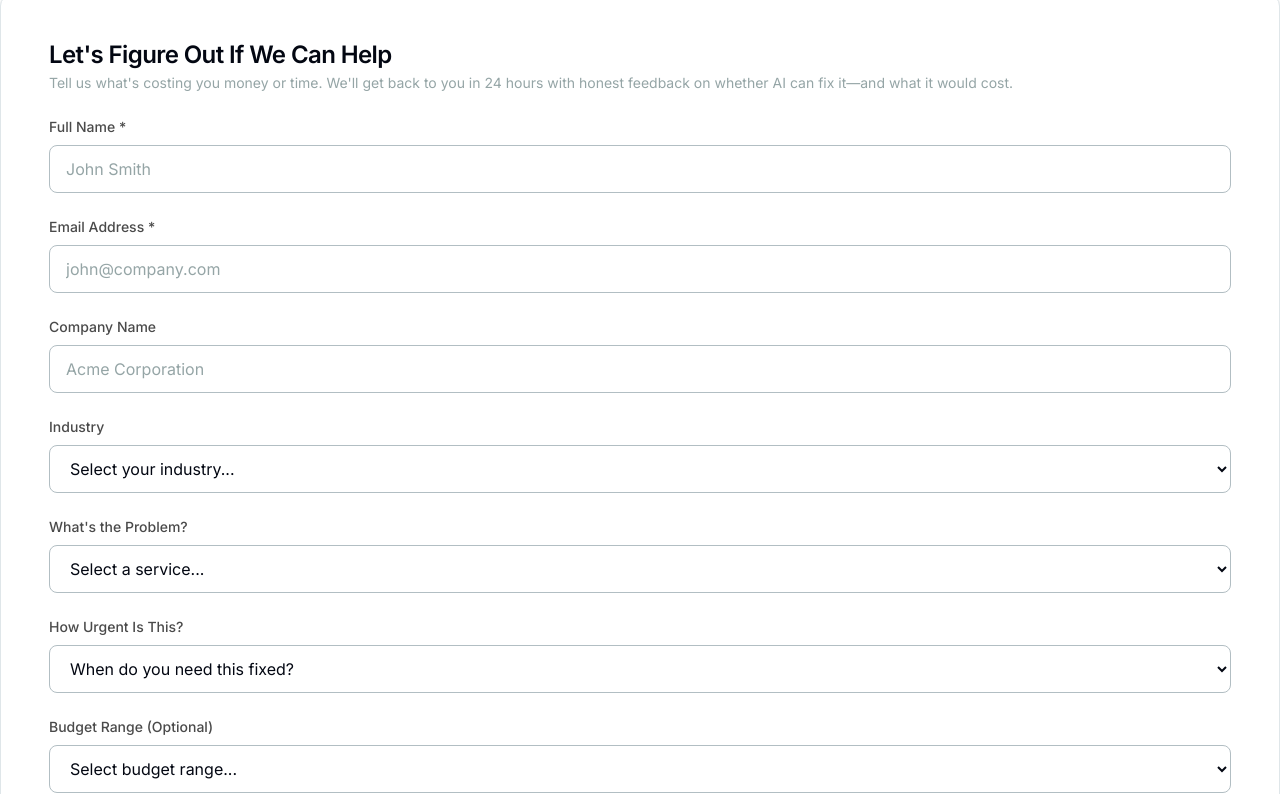
ContactForm › validates name minimum length
Type "A" into the field labelled "Full Name *" at (640, 169), box [49, 145, 1231, 193]
(page scrolled)
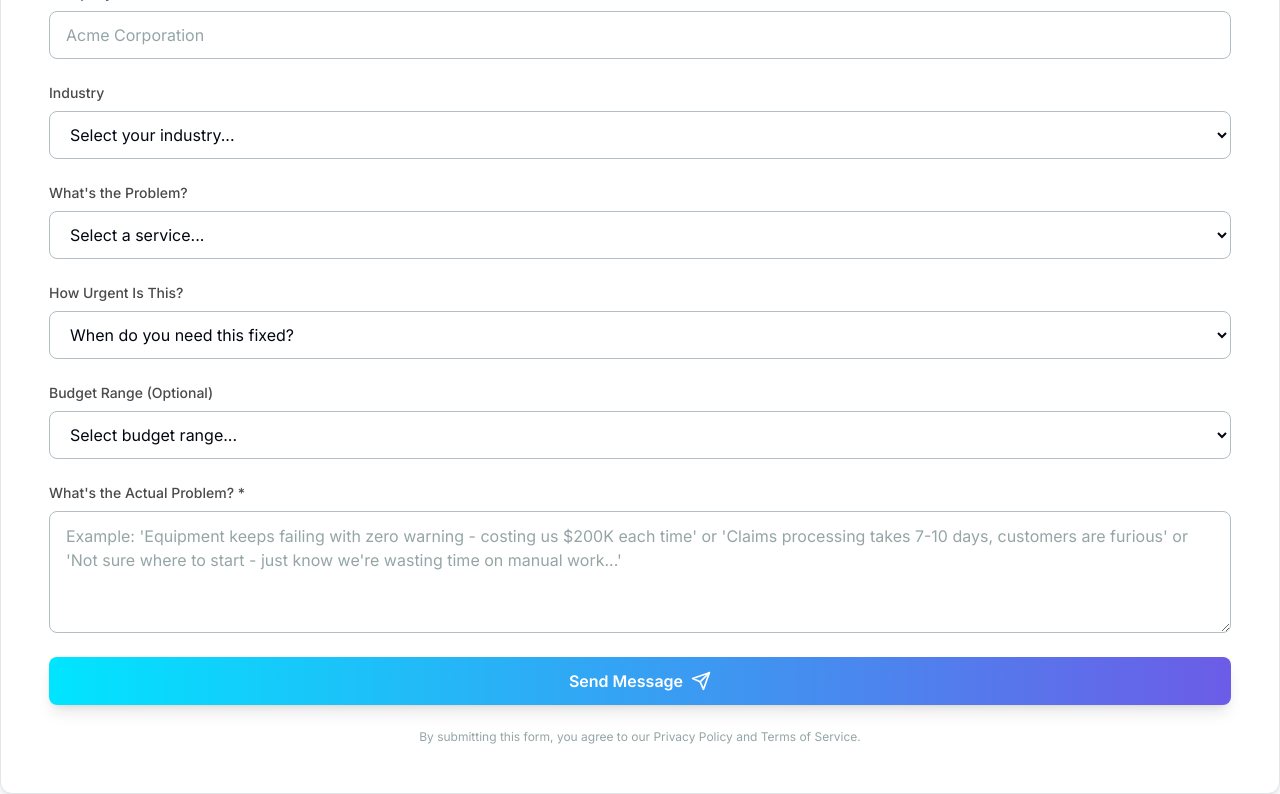
Click the button "Send Message" at (640, 681), box [49, 657, 1231, 705]
(page scrolled)
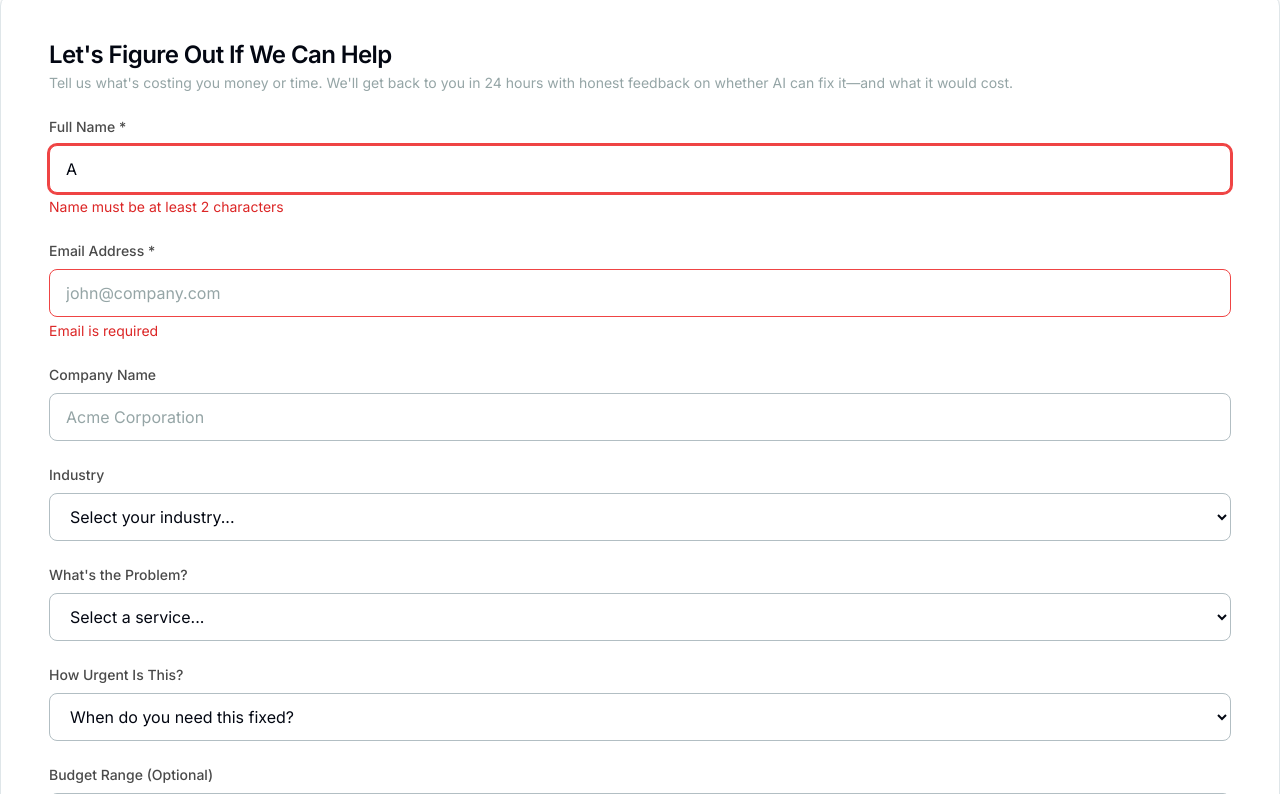
Expected: the text "Name must be at least 2 characters" is shown, [49, 198, 284, 215]
